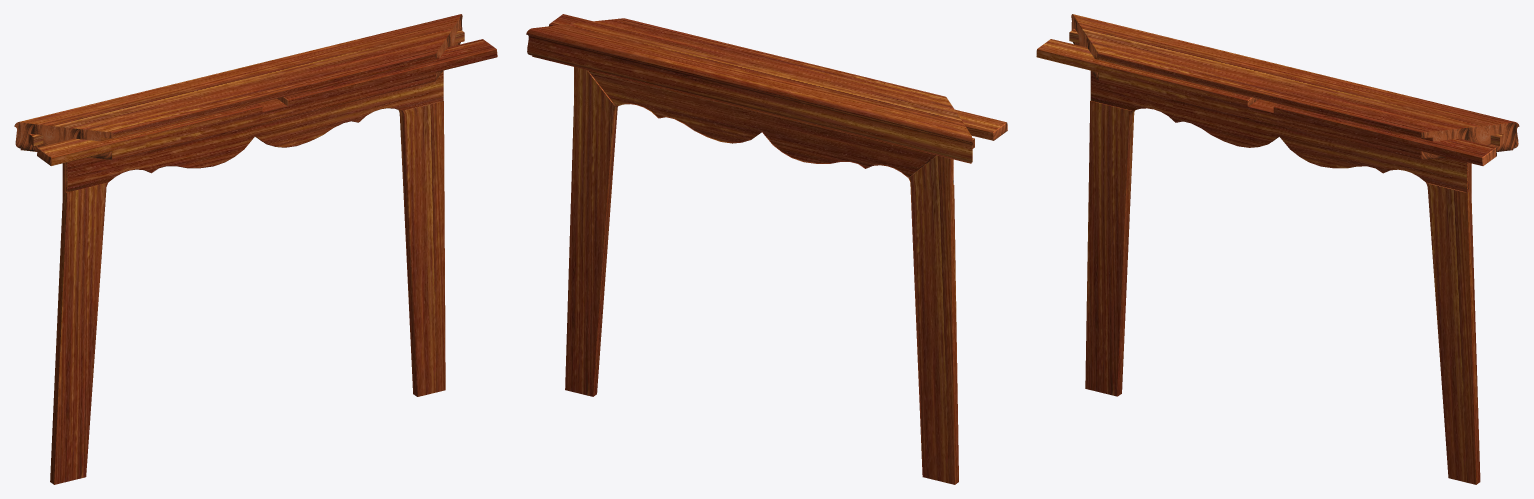
File: GMY_J_H_dabian_01.FBX
3 renders of one model, left to right at view 1: azimuth 30°, elevation 25°; view 2: azimuth 150°, elevation 25°; view 3: azimuth 330°, elevation 25°, orthographic.
Visible parts, largest first — view 1: GMY_J_dabian_01; view 2: GMY_J_dabian_01; view 3: GMY_J_dabian_01.
Boxes of the visible parts, x1,y1,x2,y2 form: GMY_J_dabian_01: [14, 14, 497, 484]; GMY_J_dabian_01: [526, 14, 1007, 484]; GMY_J_dabian_01: [1036, 14, 1519, 484].
Size of the model in its own units: 57.86 by 44.62 by 8.04.
